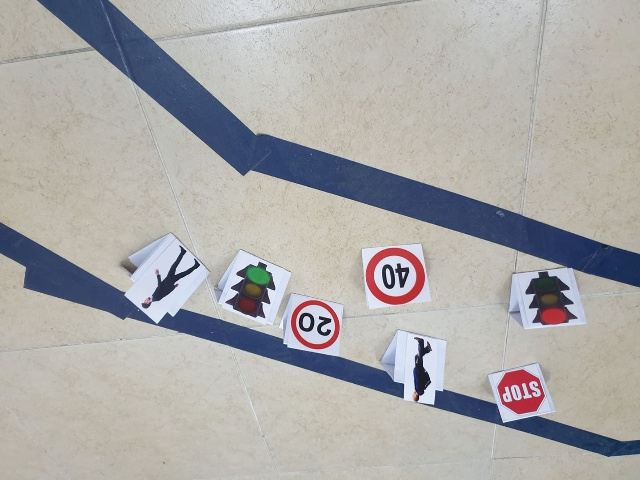Green: (226, 261, 271, 322)
Limit 20: (289, 300, 338, 354)
Limit 40: (363, 248, 426, 301)
Person: (133, 247, 200, 311), (403, 334, 438, 403)
Red: (517, 272, 581, 324)
Stop: (495, 372, 550, 415)
